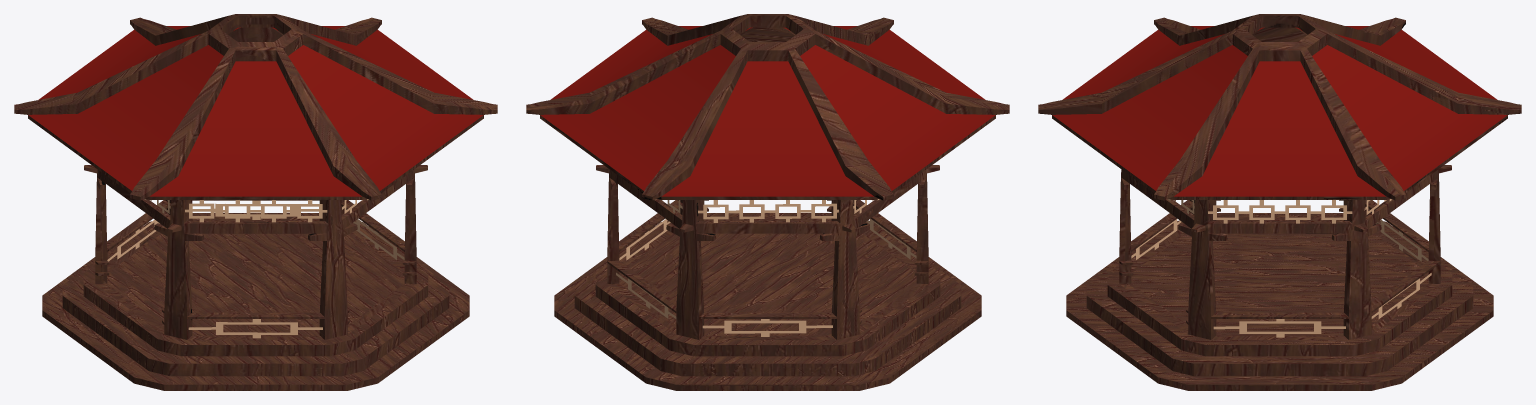
File: japanbesedka.glb
The picture shows the model from 3 angles, left to right: view 1: azimuth 30°, elevation 25°; view 2: azimuth 150°, elevation 25°; view 3: azimuth 270°, elevation 25°; orthographic projection.
Parts seen in each view (by area): view 1: Circle.012_0; view 2: Circle.012_0; view 3: Circle.012_0.
Part boxes in pixels (<box>): Circle.012_0: <box>14,14,497,390</box>; Circle.012_0: <box>526,14,1009,390</box>; Circle.012_0: <box>1038,14,1521,390</box>.
Bounding box in the file's own units: 4.79 × 3.49 × 5.45.
Materials: 3 (1 with a texture image).
